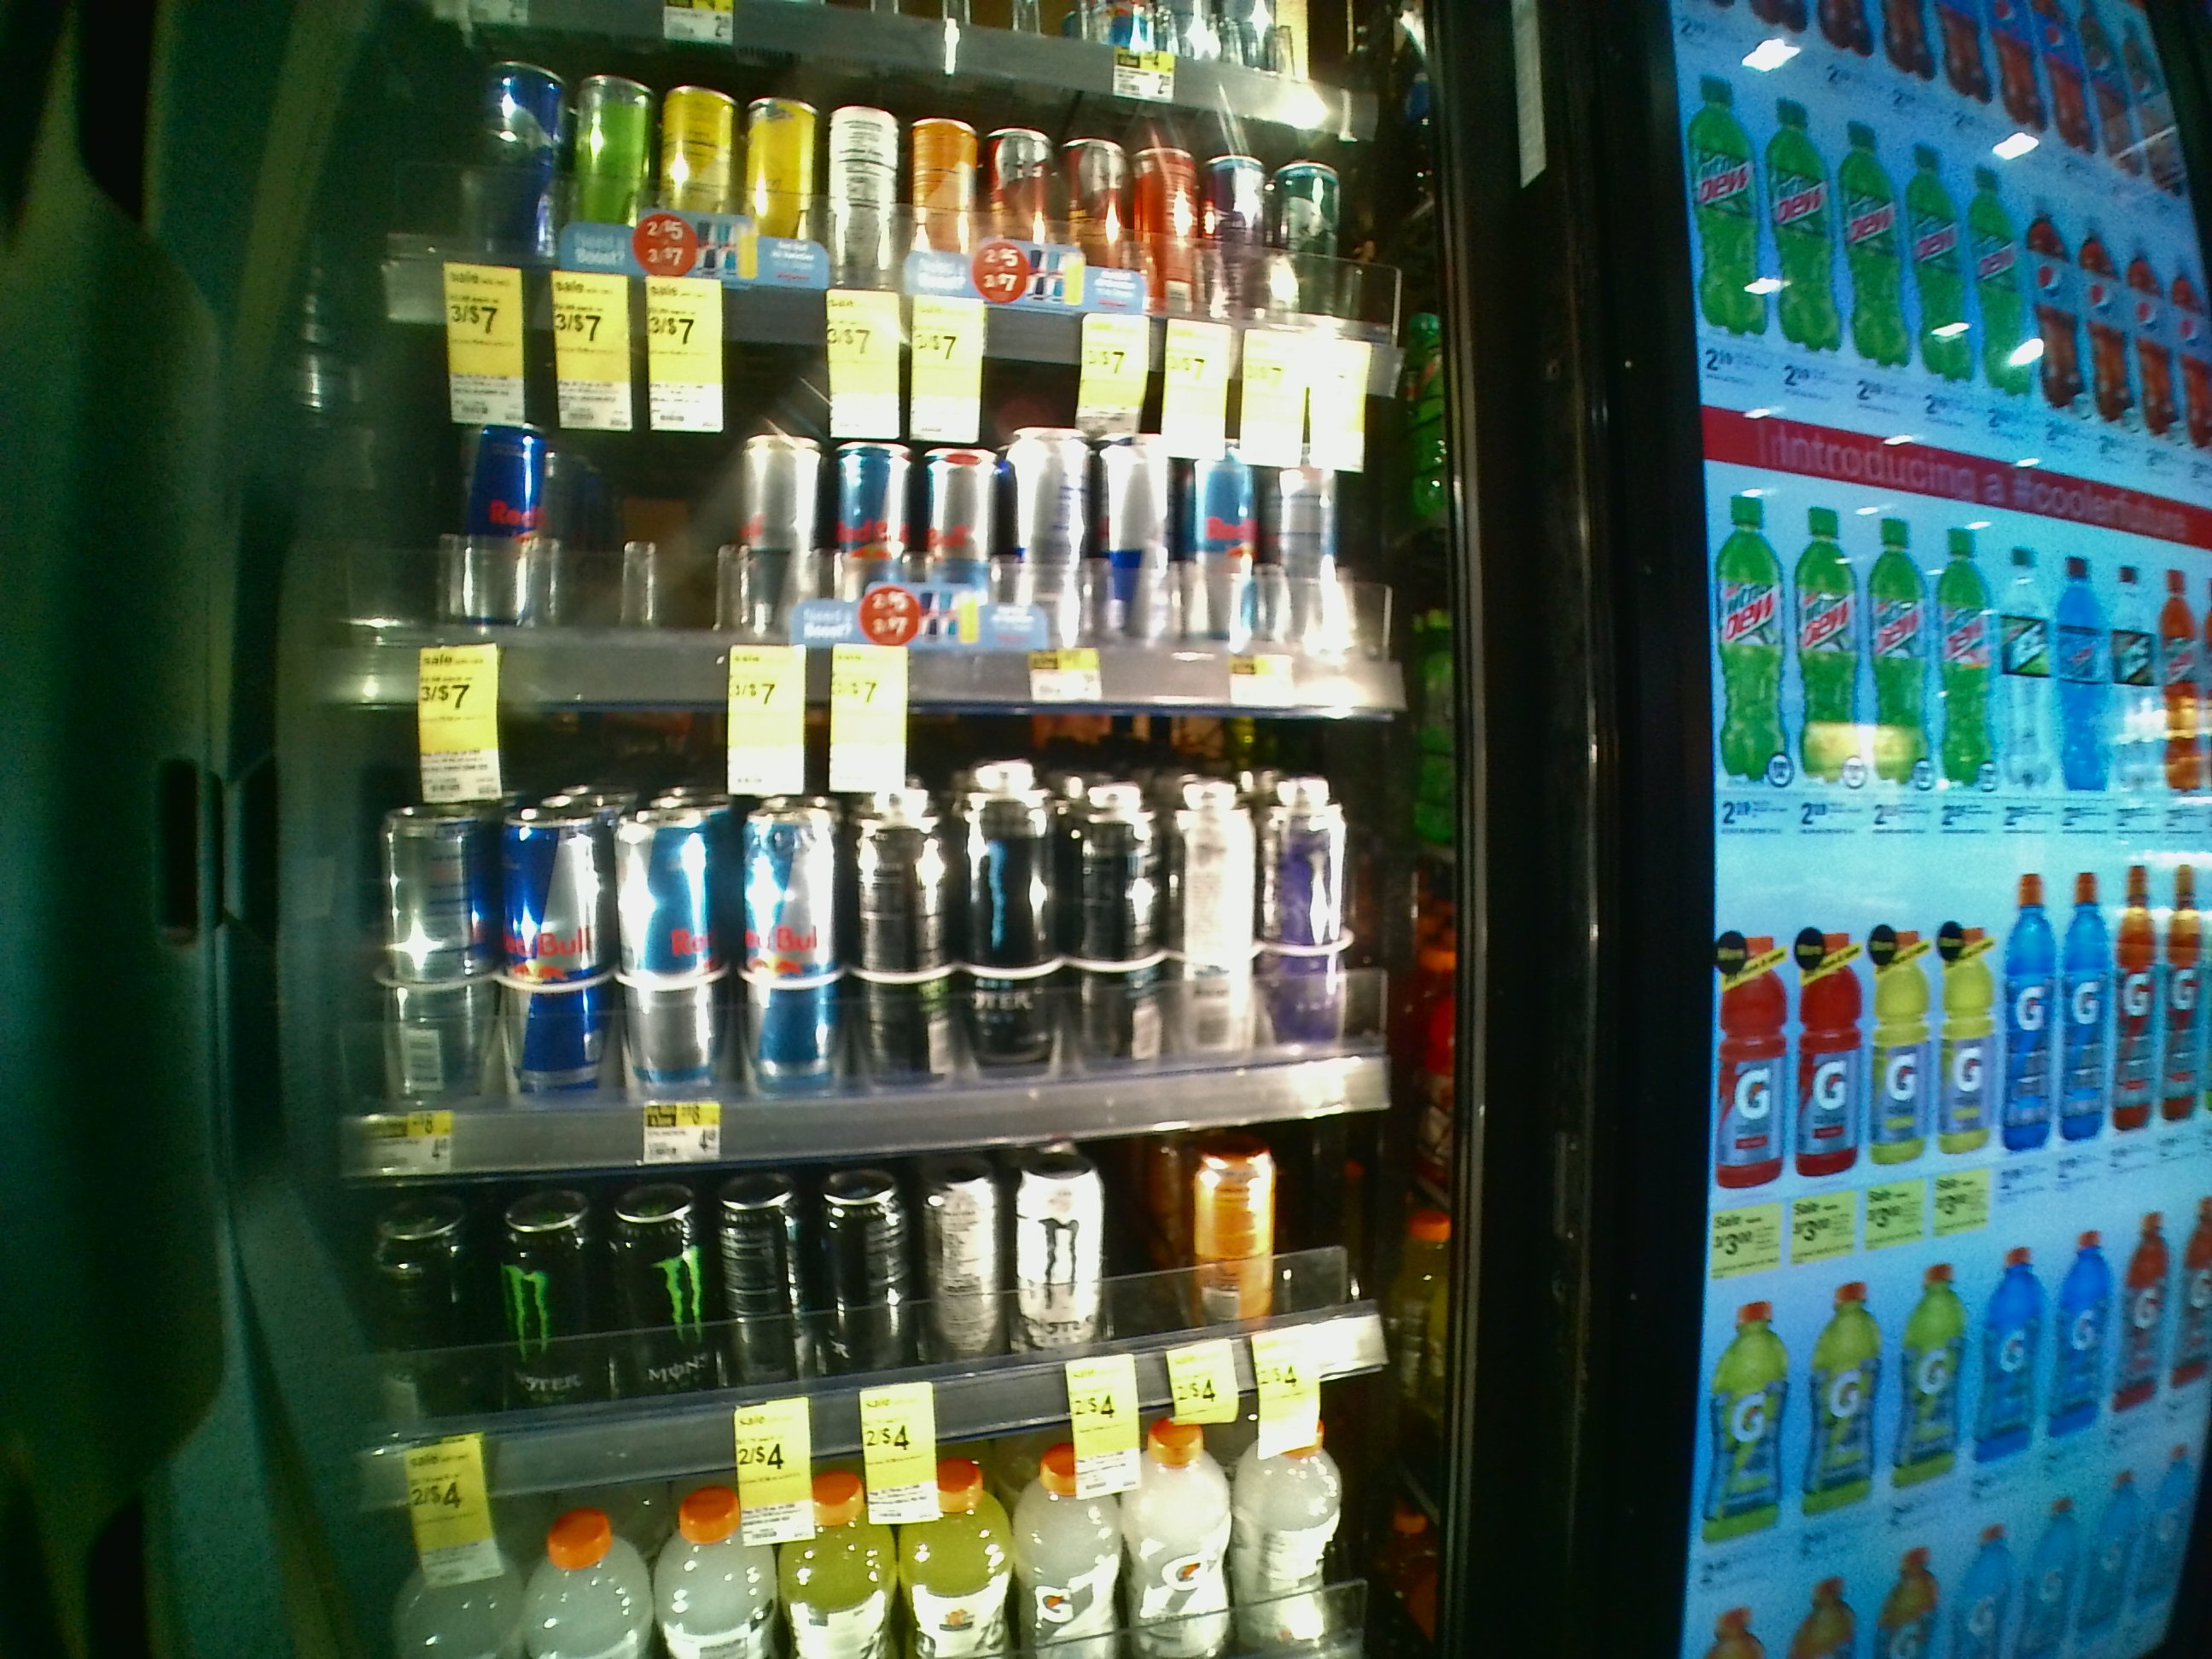shelf: (333, 695, 1479, 1161)
